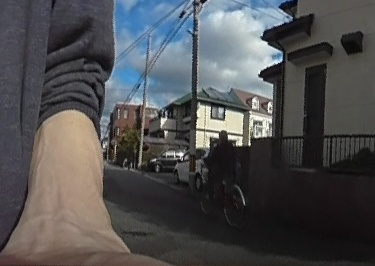person: (207, 128, 237, 204)
